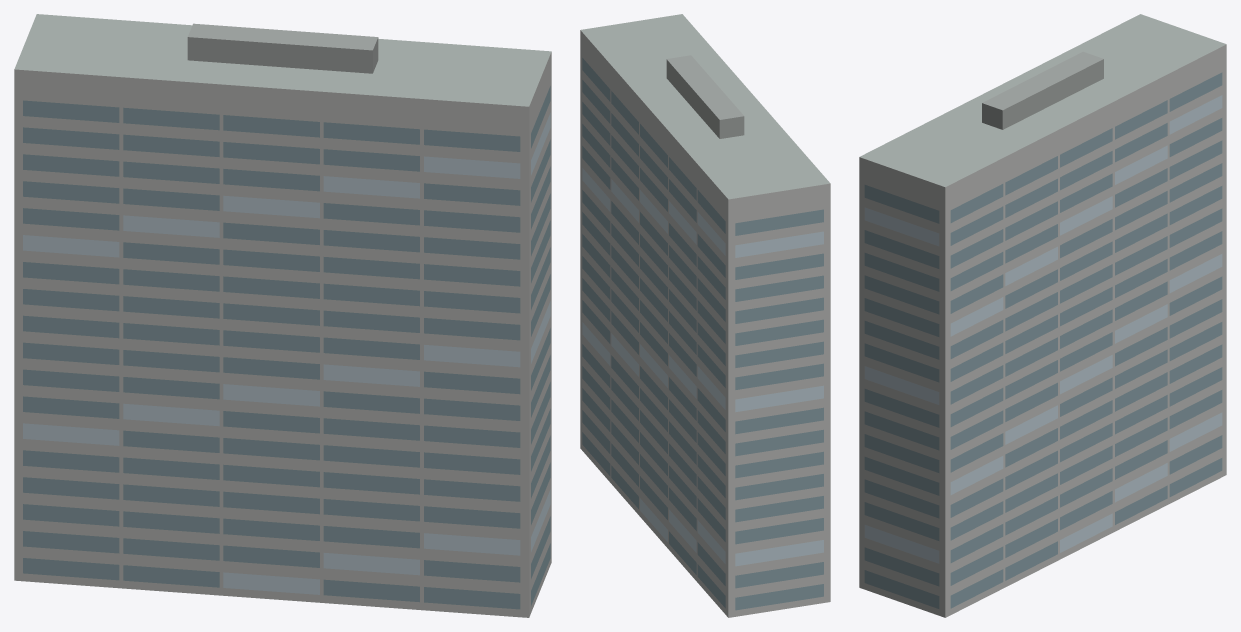
File: fallback-dmc-parkview-xi-extension-217.glb
3 views of the same model, side by side, from view 1: azimuth 30°, elevation 25°; view 2: azimuth 150°, elevation 25°; view 3: azimuth 270°, elevation 25° (orthographic). The views are drawn at different scales.
Visible parts, largest first — view 1: fallback-dmc-parkview-xi-extension-217; view 2: fallback-dmc-parkview-xi-extension-217; view 3: fallback-dmc-parkview-xi-extension-217.
Part boxes in pixels (box(x1,y1,x2,y2)): fallback-dmc-parkview-xi-extension-217: box(14, 14, 551, 617); fallback-dmc-parkview-xi-extension-217: box(580, 14, 830, 617); fallback-dmc-parkview-xi-extension-217: box(859, 14, 1226, 617).
Size of the model in its own units: 45.39 by 55 by 40.69.
